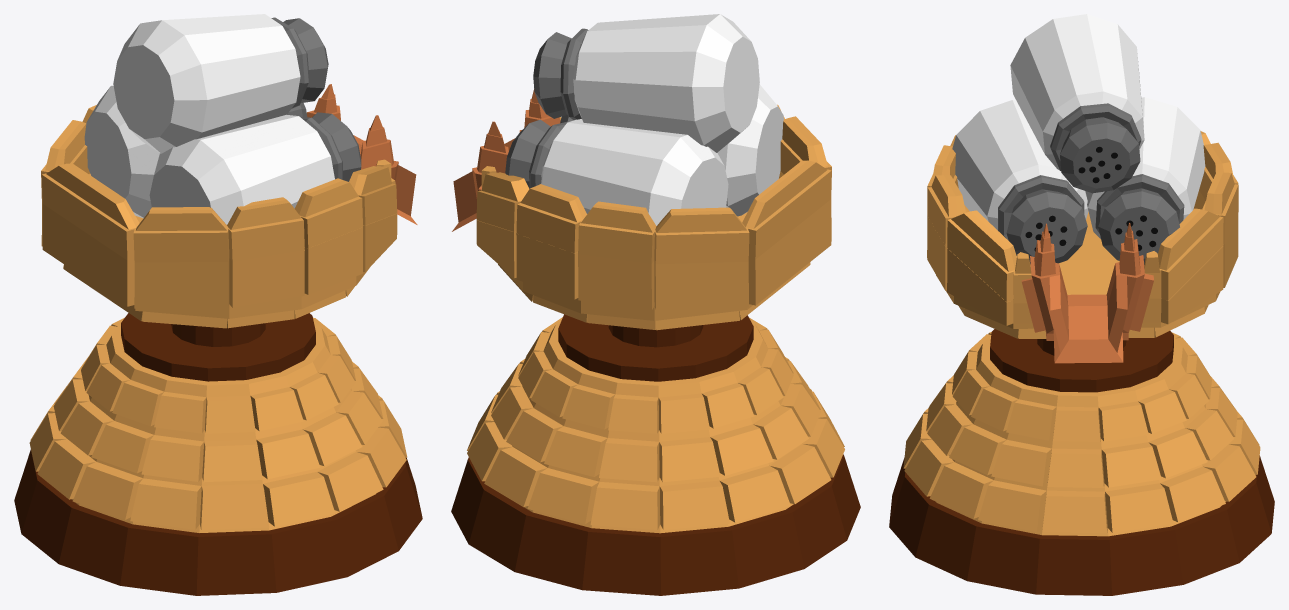
The model's file is TuzlukSv3Model.fbx.
3 views of the same model, side by side, from view 1: azimuth 30°, elevation 25°; view 2: azimuth 150°, elevation 25°; view 3: azimuth 270°, elevation 25° (orthographic). The views are drawn at different scales.
Parts seen in each view (by area): view 1: parentlı?tuz?doker.005, tuzdoker ust.006; view 2: parentlı?tuz?doker.005, tuzdoker ust.006; view 3: parentlı?tuz?doker.005, tuzdoker ust.006.
Boxes of the visible parts, x1,y1,x2,y2 form: parentlı?tuz?doker.005: (14, 313, 422, 595); tuzdoker ust.006: (41, 14, 417, 328); parentlı?tuz?doker.005: (451, 314, 860, 595); tuzdoker ust.006: (452, 14, 831, 330); parentlı?tuz?doker.005: (889, 329, 1274, 595); tuzdoker ust.006: (927, 14, 1238, 363).
Bounding box in the file's own units: 250 × 331 × 243.
3 materials, 3 textured.
